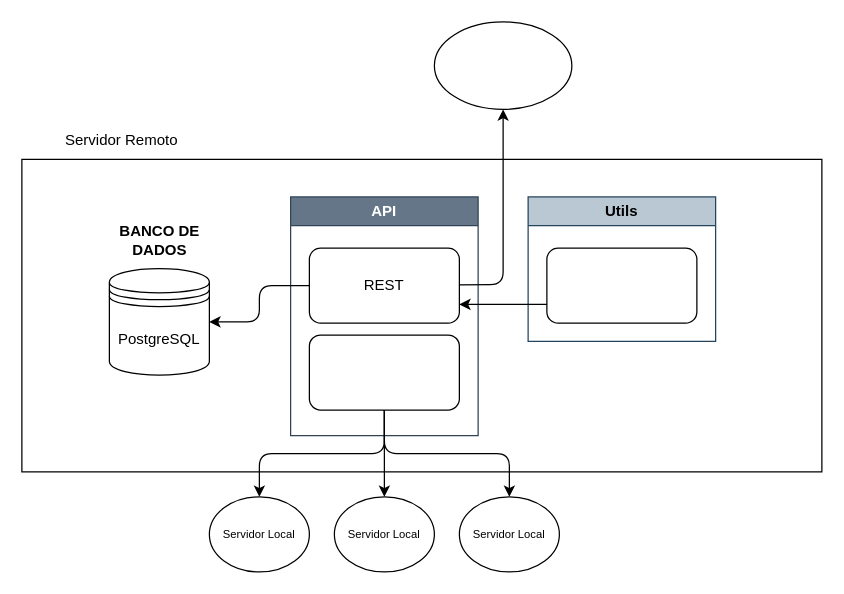
This 844x594 diagram has some shape labels left out. The shapes that lost their labels are listed below. From the top down, each one's centre as x and y in pixels, then its label:
(x=502, y=65): Interface de Usuário
(x=621, y=285): QRCode Generator
(x=383, y=372): MQTT
